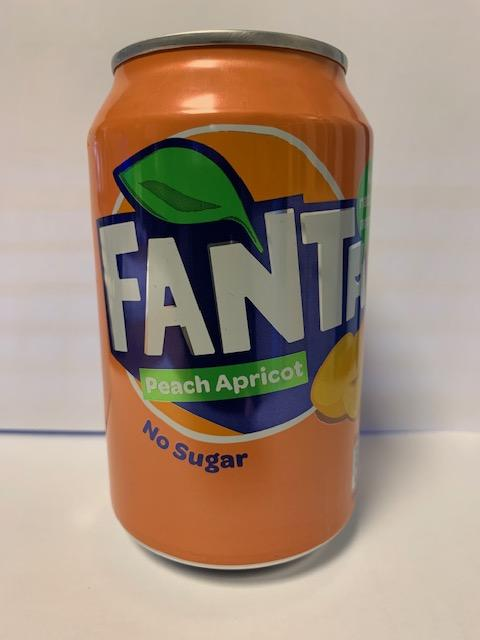metal: (88, 32, 373, 570)
